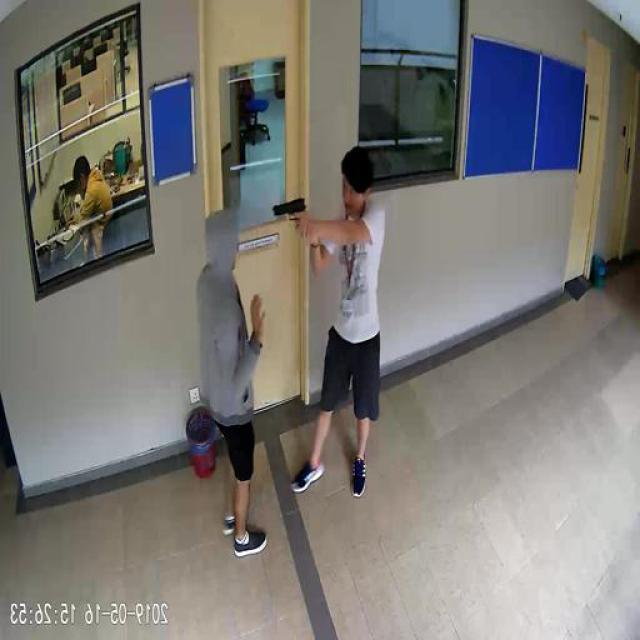Gun: (274, 192, 308, 234)
